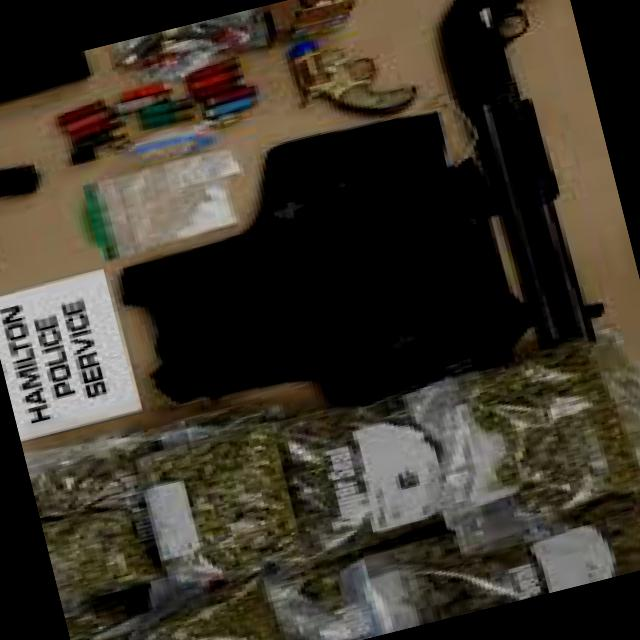long weapon: (413, 0, 640, 353)
